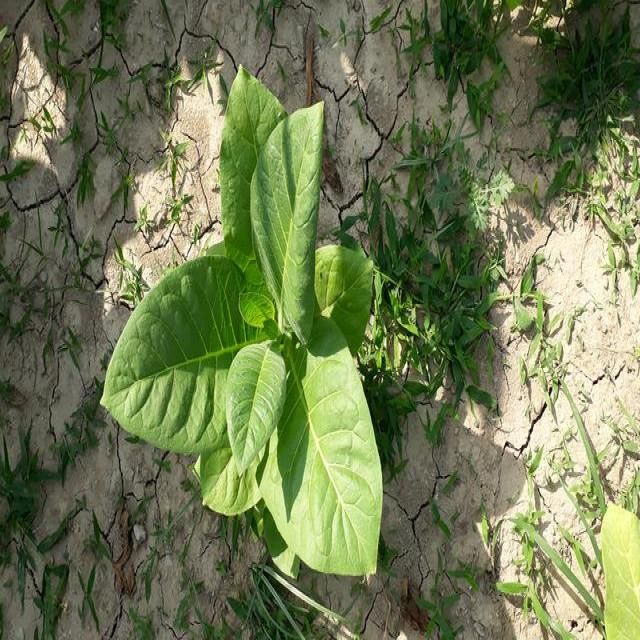crop: (90, 66, 396, 589)
